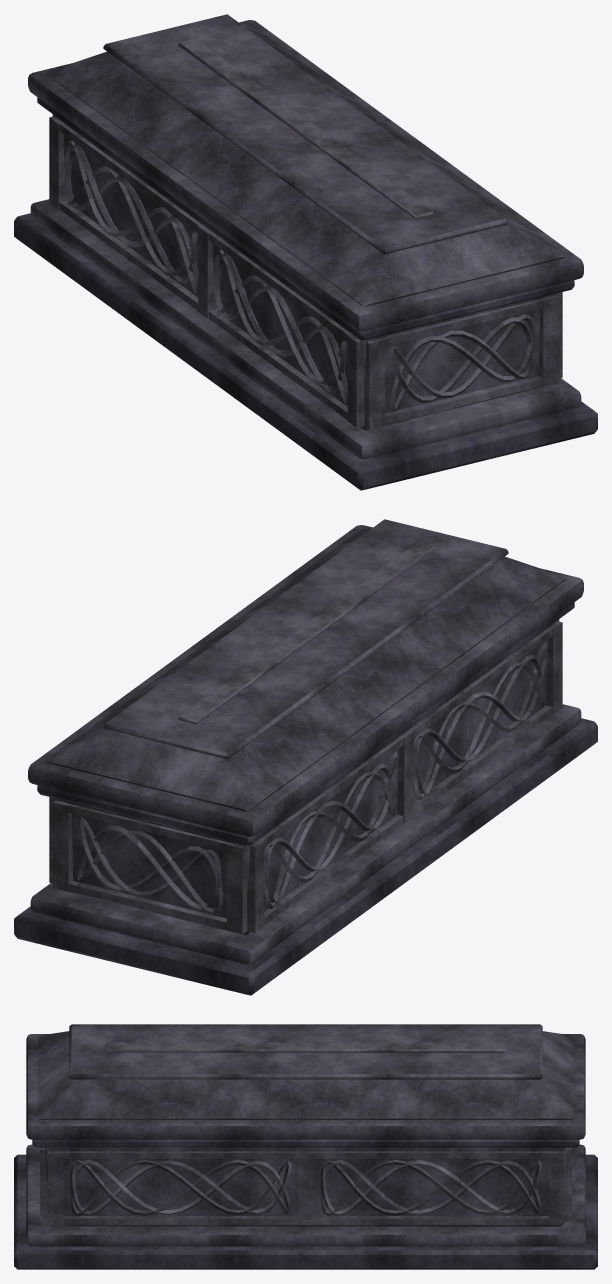
The model's file is sarcophagus.glb.
3 renders of one model, top to bottom at view 1: azimuth 30°, elevation 25°; view 2: azimuth 150°, elevation 25°; view 3: azimuth 270°, elevation 25°, orthographic. The views are drawn at different scales.
Parts seen in each view (by area): view 1: sarcophagus; view 2: sarcophagus; view 3: sarcophagus.
Part boxes in pixels (box(x1,y1,x2,y2)): sarcophagus: box(14, 14, 597, 490); sarcophagus: box(14, 519, 597, 995); sarcophagus: box(14, 1024, 597, 1269).
Bounding box in the file's own units: 0.76 × 0.632 × 1.9.
3 materials, 3 textured.
